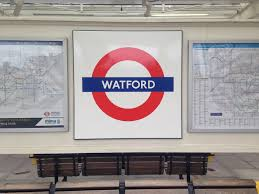London Underground: (82, 47, 174, 121)
